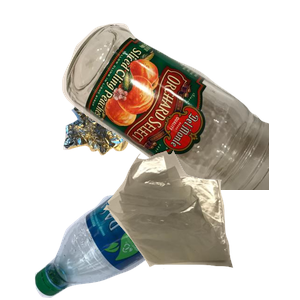glass: (60, 21, 300, 201)
metal: (61, 54, 225, 202)
plastic: (32, 154, 242, 300)
trash: (101, 148, 300, 300)
